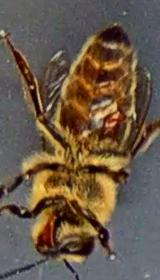varroa_mite: (89, 102, 133, 142)
